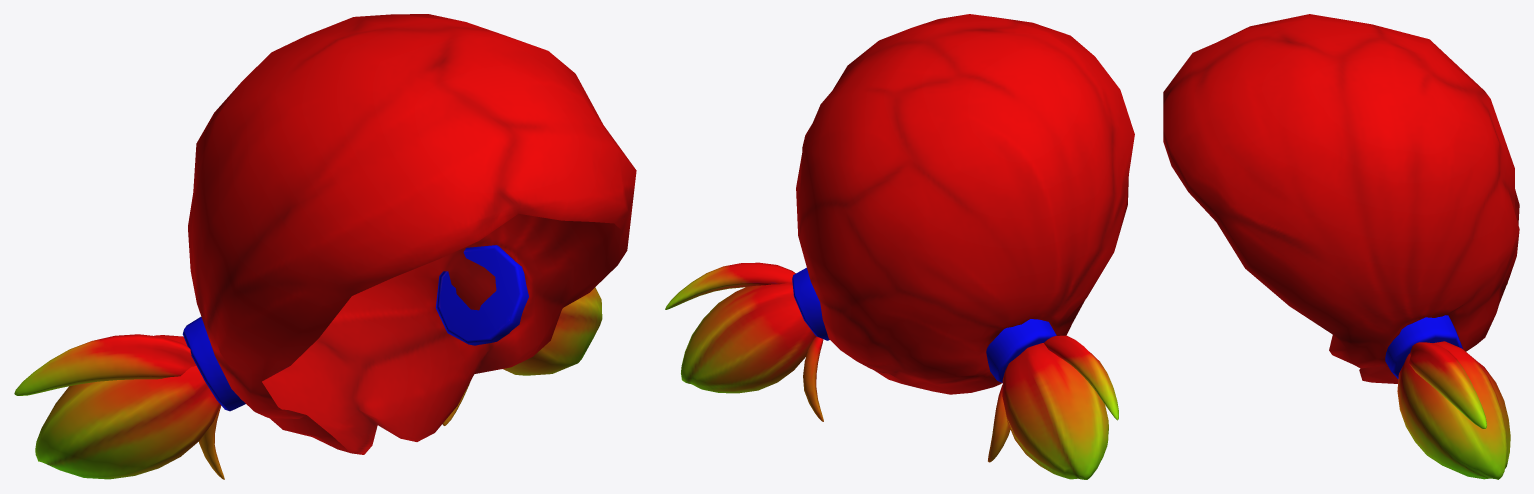
File: HairFront_ShortPiggies.obj
3 views of the same model, side by side, from view 1: azimuth 30°, elevation 25°; view 2: azimuth 150°, elevation 25°; view 3: azimuth 270°, elevation 25° (orthographic). The views are drawn at different scales.
Parts seen in each view (by area): view 1: HairFront_ShortPiggies_0; view 2: HairFront_ShortPiggies_0; view 3: HairFront_ShortPiggies_0.
Part boxes in pixels (<box>): HairFront_ShortPiggies_0: <box>14,14,636,479</box>; HairFront_ShortPiggies_0: <box>665,14,1134,479</box>; HairFront_ShortPiggies_0: <box>1163,14,1519,479</box>.
Bounding box in the file's own units: 0.3253 × 0.2444 × 0.2144.
1 material, 1 textured.
